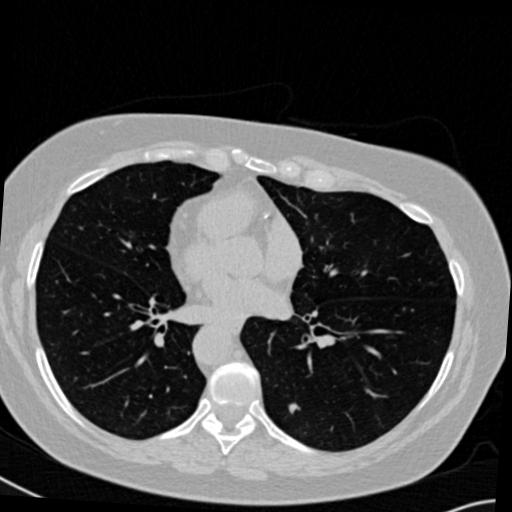nodule: (288, 401, 303, 416)
